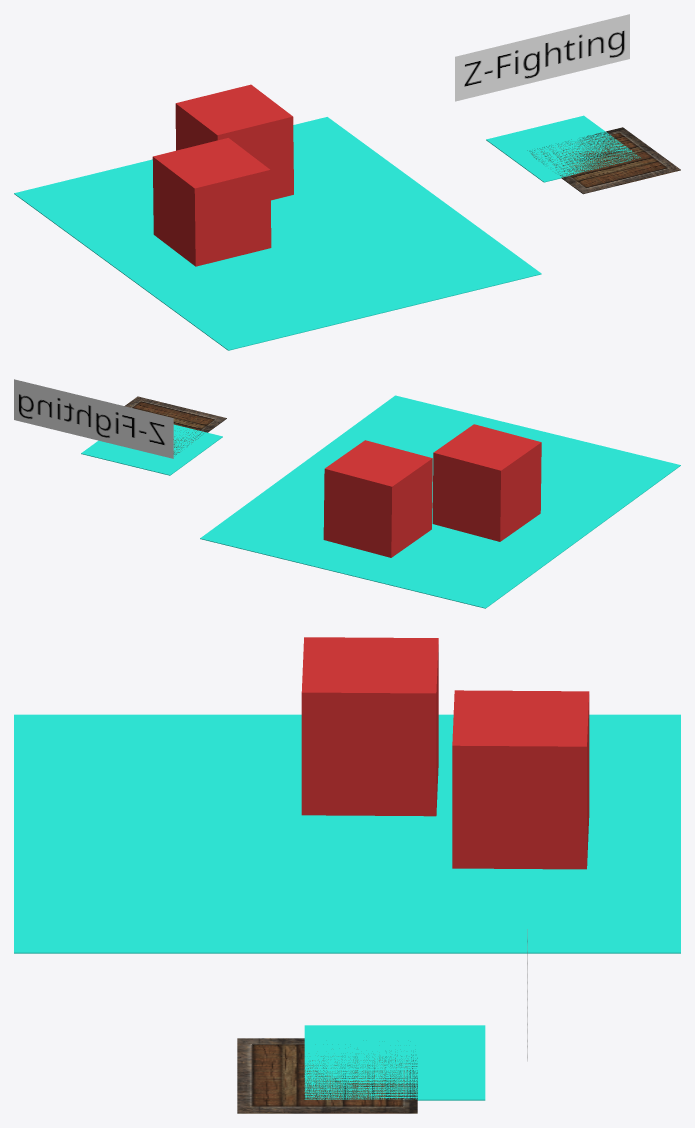
Rendered from Depth_Testing.obj.
3 views of the same model, one above another, from view 1: azimuth 30°, elevation 25°; view 2: azimuth 150°, elevation 25°; view 3: azimuth 270°, elevation 25° (orthographic). The views are drawn at different scales.
Parts seen in each view (by area): view 1: Cube.002, Cube, Plane, Cube.001, Cube.003, Cube.004; view 2: Cube.002, Cube, Cube.001, Plane, Cube.003, Cube.004; view 3: Cube.002, Cube.001, Cube, Cube.003, Cube.004.
Part boxes in pixels (x1,y1,x2,y2): Cube.002: (14, 117, 541, 350); Cube: (152, 138, 271, 266); Plane: (455, 14, 629, 101); Cube.001: (175, 84, 293, 200); Cube.003: (486, 115, 640, 182); Cube.004: (527, 127, 680, 194); Cube.002: (200, 395, 680, 608); Cube: (432, 424, 541, 541); Cube.001: (323, 440, 432, 557); Plane: (14, 379, 173, 458); Cube.003: (81, 424, 222, 475); Cube.004: (124, 396, 226, 454); Cube.002: (14, 714, 680, 953); Cube.001: (452, 690, 589, 869); Cube: (301, 637, 438, 816); Cube.003: (304, 1025, 485, 1100); Cube.004: (237, 1038, 417, 1113).
Bounding box in the file's own units: 15.12 × 2.07 × 9.91.
6 materials, 6 textured.
